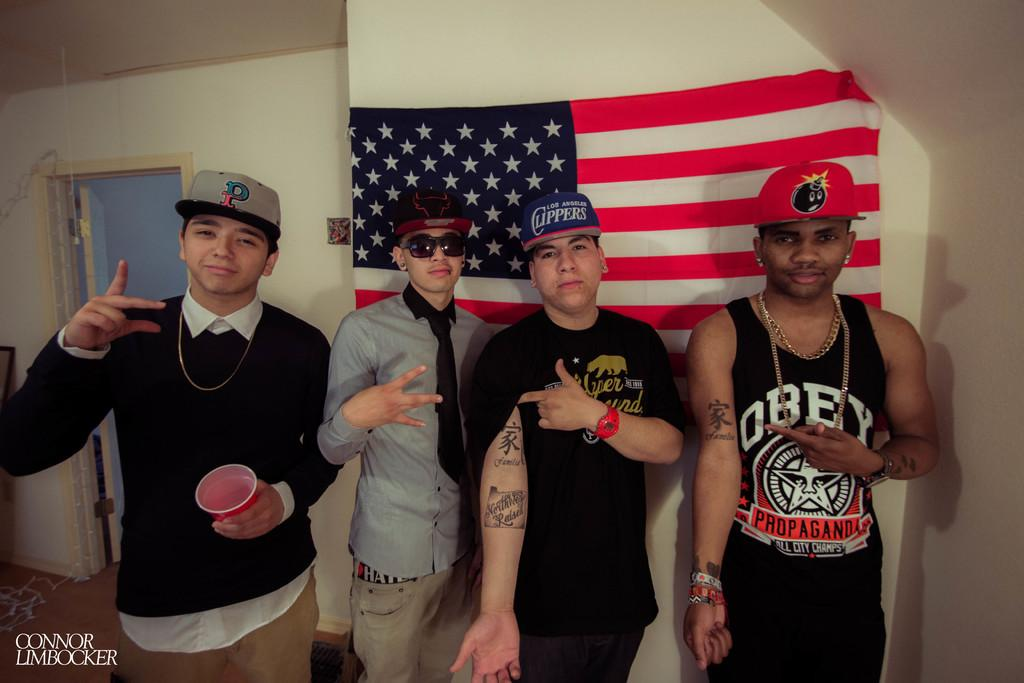Hat: (752, 157, 865, 233), (172, 167, 280, 243), (520, 193, 604, 256), (393, 186, 472, 239)
